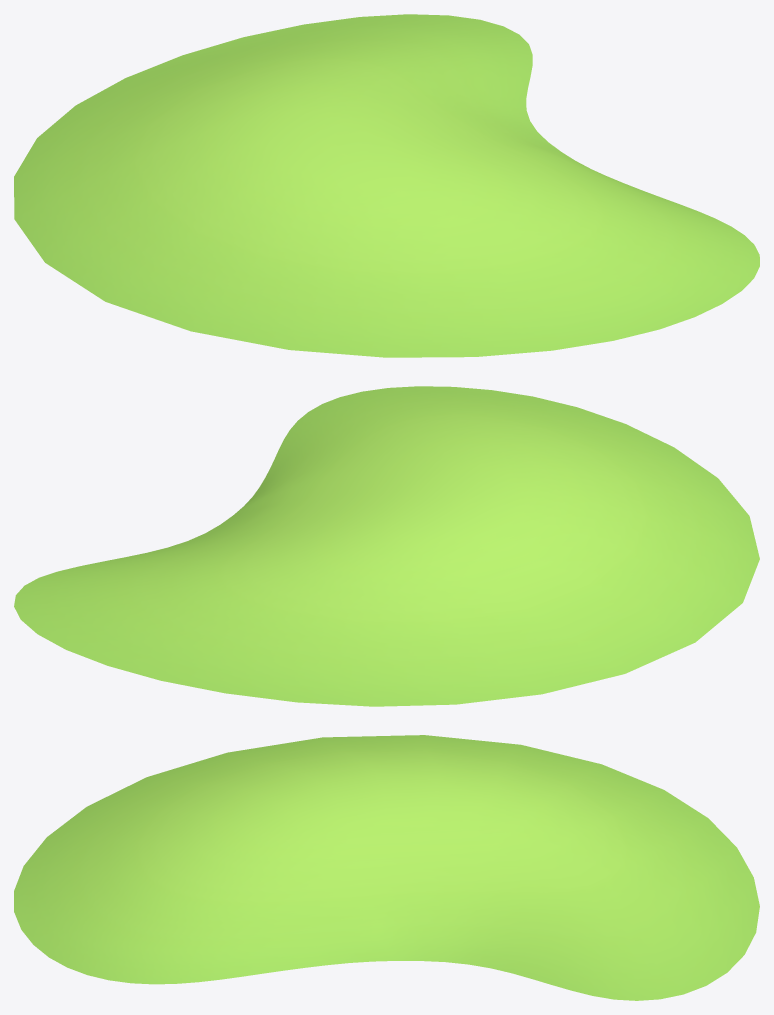
Rendered from Ground_01.glb.
3 views of the same model, one above another, from view 1: azimuth 30°, elevation 25°; view 2: azimuth 150°, elevation 25°; view 3: azimuth 270°, elevation 25° (orthographic). The views are drawn at different scales.
Visible parts, largest first — view 1: Ground_01; view 2: Ground_01; view 3: Ground_01.
Part boxes in pixels (x1,y1,x2,y2): Ground_01: (14,14,759,357); Ground_01: (14,386,759,706); Ground_01: (14,735,759,1000).
Size of the model in its own units: 21.6 by 2.28 by 25.61.
1 material, 1 textured.
